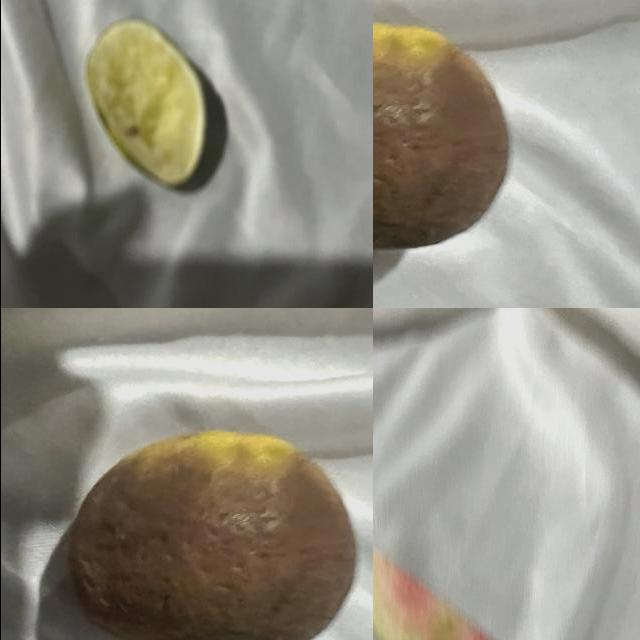General: (67, 429, 359, 639)
Infectious: (372, 23, 512, 251)
Sharps: (83, 18, 230, 196)
